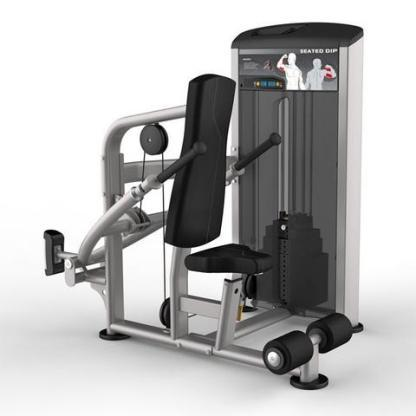seated dip machine: (46, 21, 366, 393)
